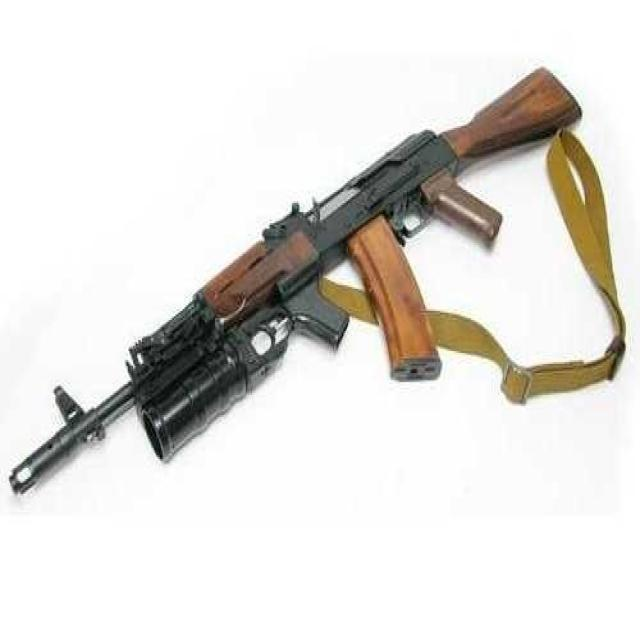heavyweapon: (4, 41, 582, 535)
